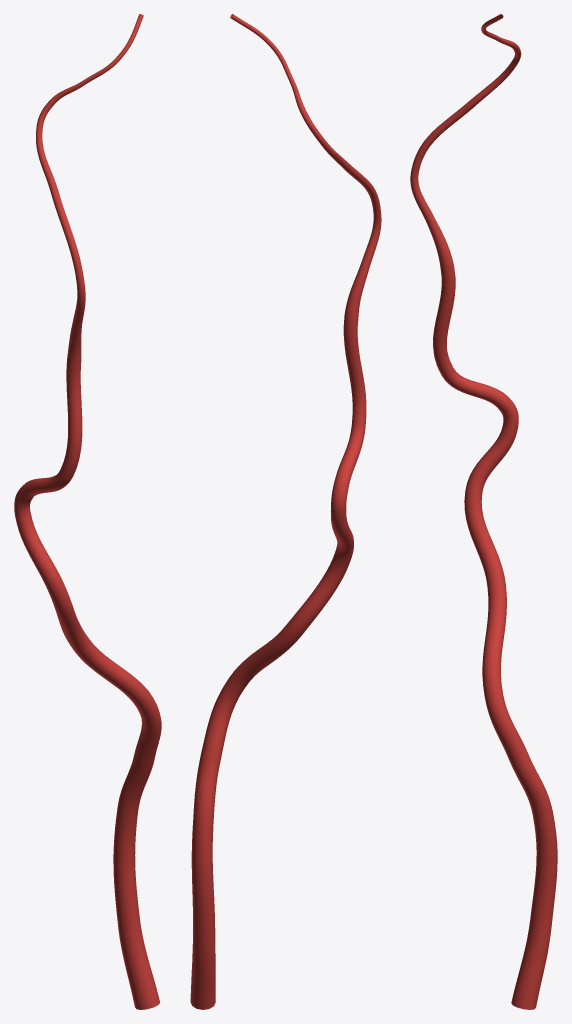
The picture shows the model from 3 angles, left to right: view 1: azimuth 30°, elevation 25°; view 2: azimuth 150°, elevation 25°; view 3: azimuth 270°, elevation 25°; orthographic projection. The views are drawn at different scales.
Parts seen in each view (by area): view 1: 左侧枕内侧动脉; view 2: 左侧枕内侧动脉; view 3: 左侧枕内侧动脉.
Boxes of the visible parts, x1=… form: 左侧枕内侧动脉: x1=14, y1=14, x2=161, y2=1009; 左侧枕内侧动脉: x1=190, y1=14, x2=381, y2=1009; 左侧枕内侧动脉: x1=410, y1=14, x2=557, y2=1009.
Bounding box in the file's own units: 0.0158 × 0.1015 × 0.0137.
